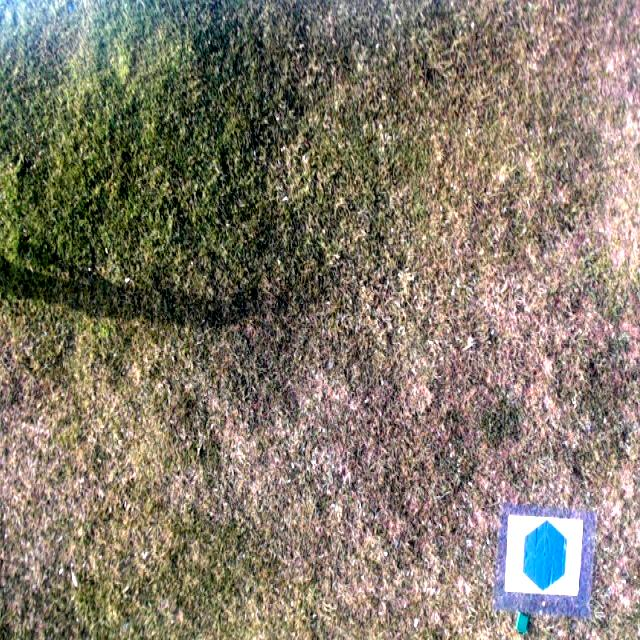blue_hexagon: (524, 520, 565, 592)
